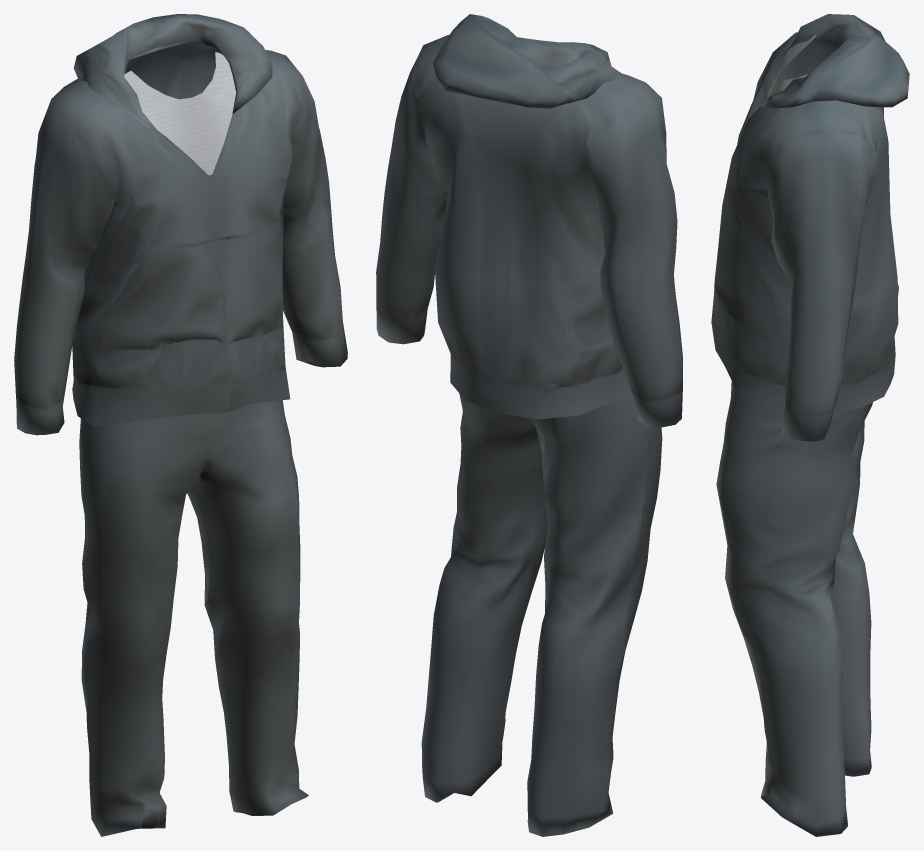
Rendered from Sweatslooks.fbx.
3 renders of one model, left to right at view 1: azimuth 30°, elevation 25°; view 2: azimuth 150°, elevation 25°; view 3: azimuth 270°, elevation 25°, orthographic. The views are drawn at different scales.
Visible parts, largest first — view 1: Sweats Looks; view 2: Sweats Looks; view 3: Sweats Looks.
Part boxes in pixels (x1,y1,x2,y2): Sweats Looks: (14, 14, 347, 836); Sweats Looks: (376, 14, 682, 836); Sweats Looks: (711, 14, 909, 836).
Bounding box in the file's own units: 65.22 × 158 × 37.69.
